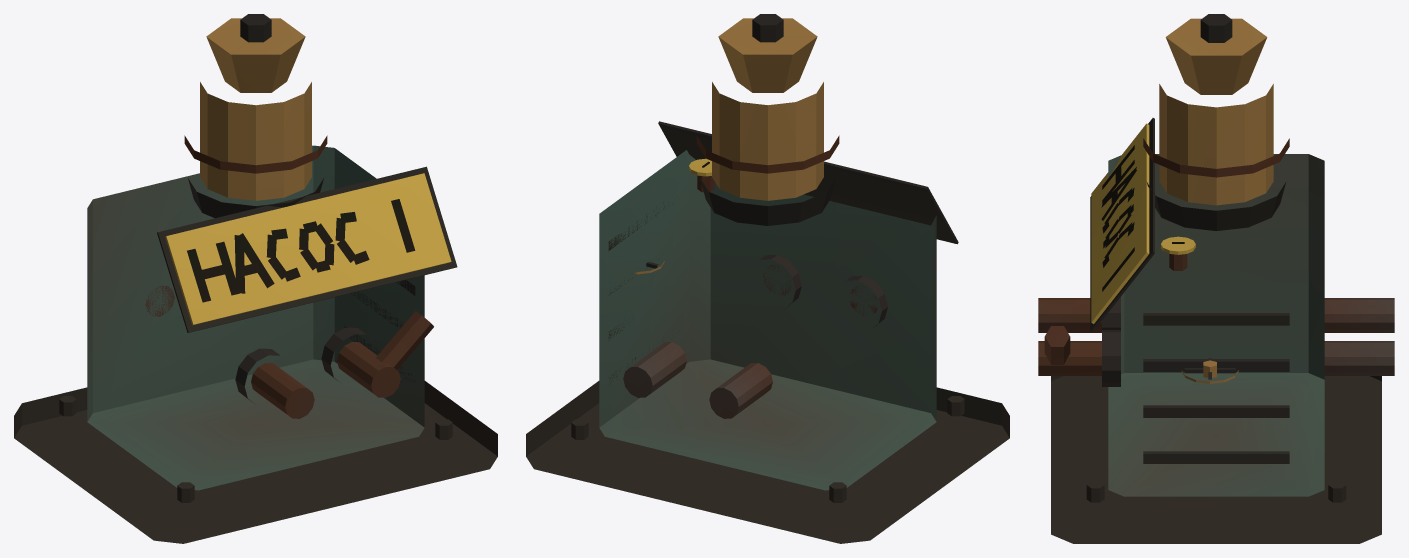
Rendered from pump1.glb.
3 renders of one model, left to right at view 1: azimuth 30°, elevation 25°; view 2: azimuth 150°, elevation 25°; view 3: azimuth 270°, elevation 25°, orthographic. The views are drawn at different scales.
Parts seen in each view (by area): view 1: pump1|lod0|s; view 2: pump1|lod0|s; view 3: pump1|lod0|s.
Boxes of the visible parts, x1,y1,x2,y2 form: pump1|lod0|s: [14, 14, 497, 543]; pump1|lod0|s: [526, 14, 1009, 543]; pump1|lod0|s: [1038, 14, 1394, 543].
Size of what is drawn, in the model's own units: 1.28 by 1.52 by 1.12.
